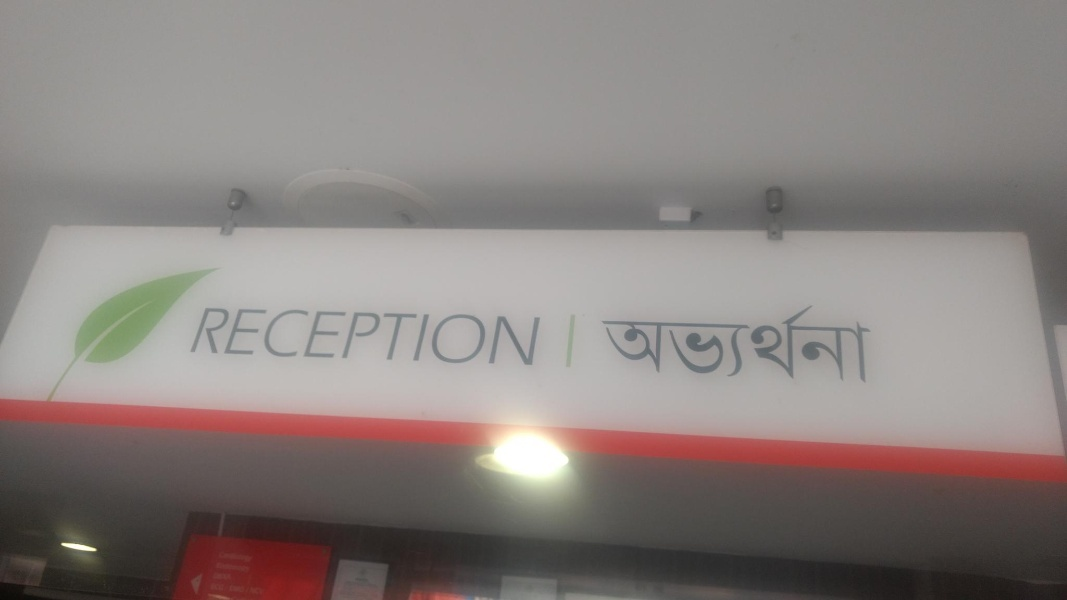text: (609, 301, 624, 384), (625, 301, 640, 384), (641, 301, 656, 384), (657, 301, 672, 384), (673, 301, 688, 384), (689, 301, 704, 384), (705, 301, 720, 384), (721, 301, 736, 384), (737, 301, 752, 384), (753, 301, 768, 384), (769, 301, 784, 384), (785, 301, 800, 384), (801, 301, 816, 384), (817, 301, 832, 384), (833, 301, 848, 384), (849, 301, 864, 384), (865, 301, 877, 384), (209, 308, 224, 366), (225, 308, 240, 366), (241, 308, 256, 366), (257, 308, 272, 366), (273, 308, 288, 366), (289, 308, 304, 366), (305, 308, 320, 366), (321, 308, 336, 366), (337, 308, 352, 366), (353, 308, 368, 366), (369, 308, 384, 366), (385, 308, 400, 366), (401, 308, 416, 366), (417, 308, 432, 366), (433, 308, 448, 366), (449, 308, 464, 366), (465, 308, 480, 366), (481, 308, 496, 366), (497, 308, 512, 366), (513, 308, 528, 366), (241, 539, 257, 589), (529, 308, 542, 366), (225, 539, 240, 589), (599, 301, 608, 384), (215, 539, 224, 589), (203, 308, 208, 366)
